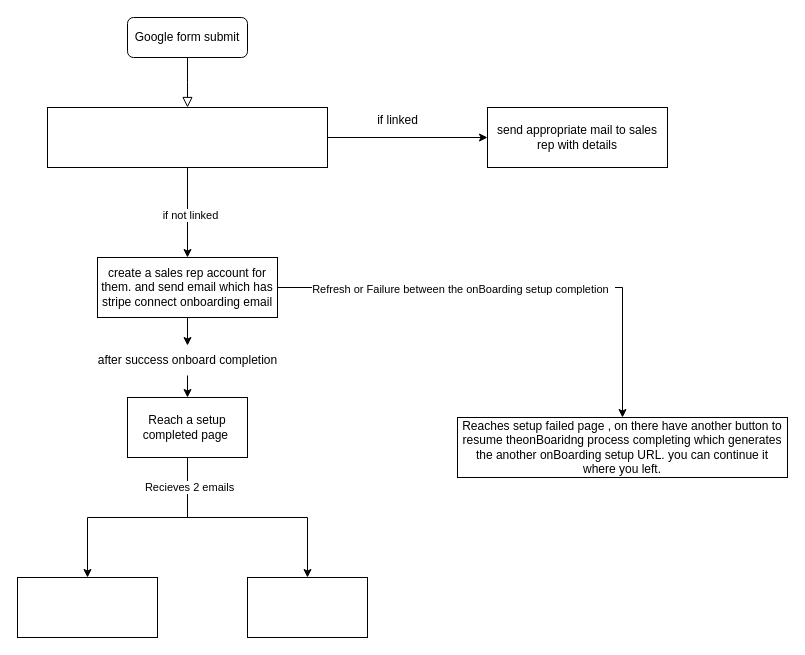
Some shapes in this 805 by 655 pixel diagram are drawn without their labels. The shapes that lost their labels are listed below. From the top down, each one's box as (x1, y1, x2, y2) in pixels, then its label:
(46, 106, 328, 168): verifiying phone number and mail for already linked to another account
(16, 576, 158, 638): Onbording completing mail with express dasboard access link
(246, 576, 368, 638): Notice of acceptance email with sales rep's referral link
